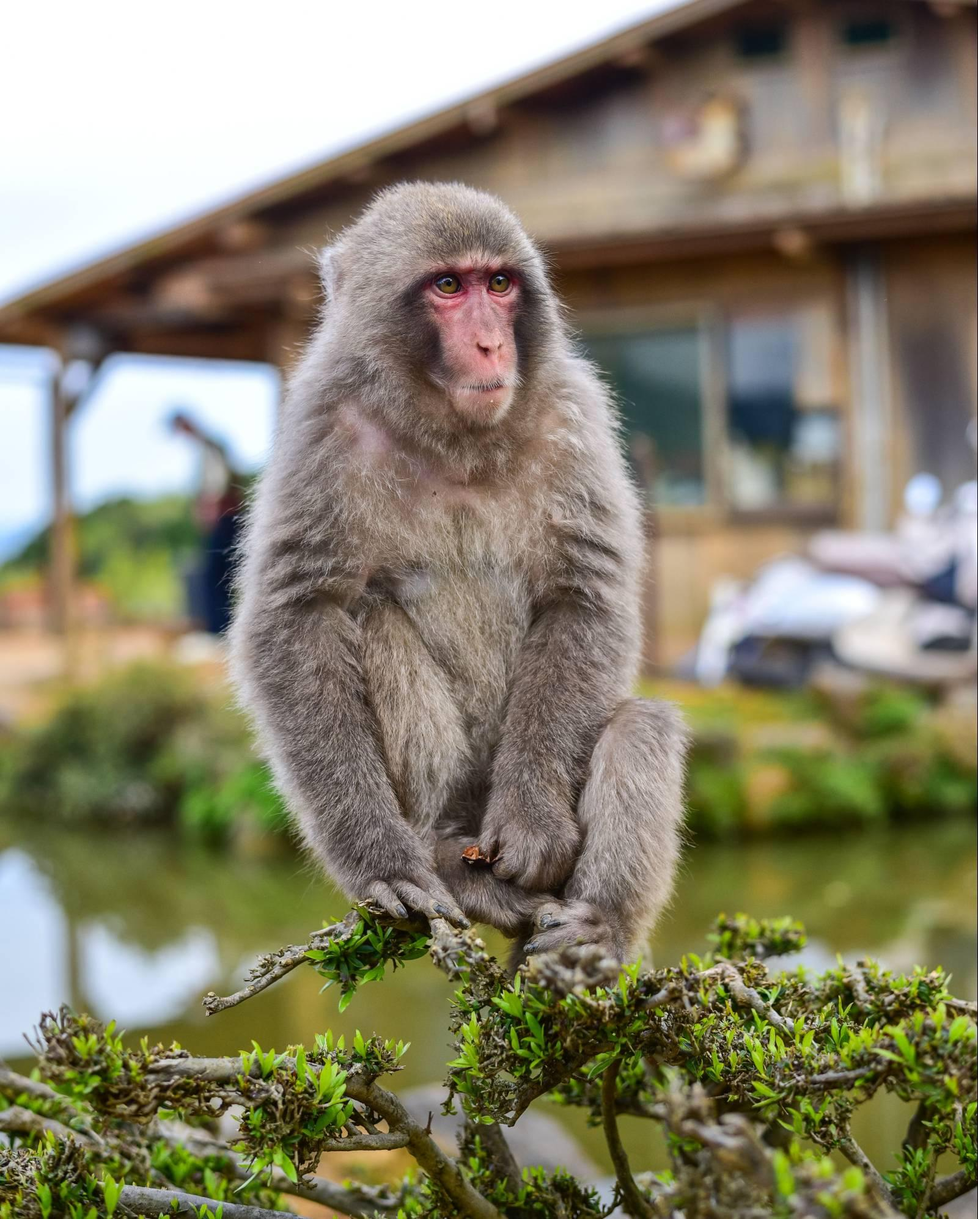monkey: (226, 181, 691, 988)
